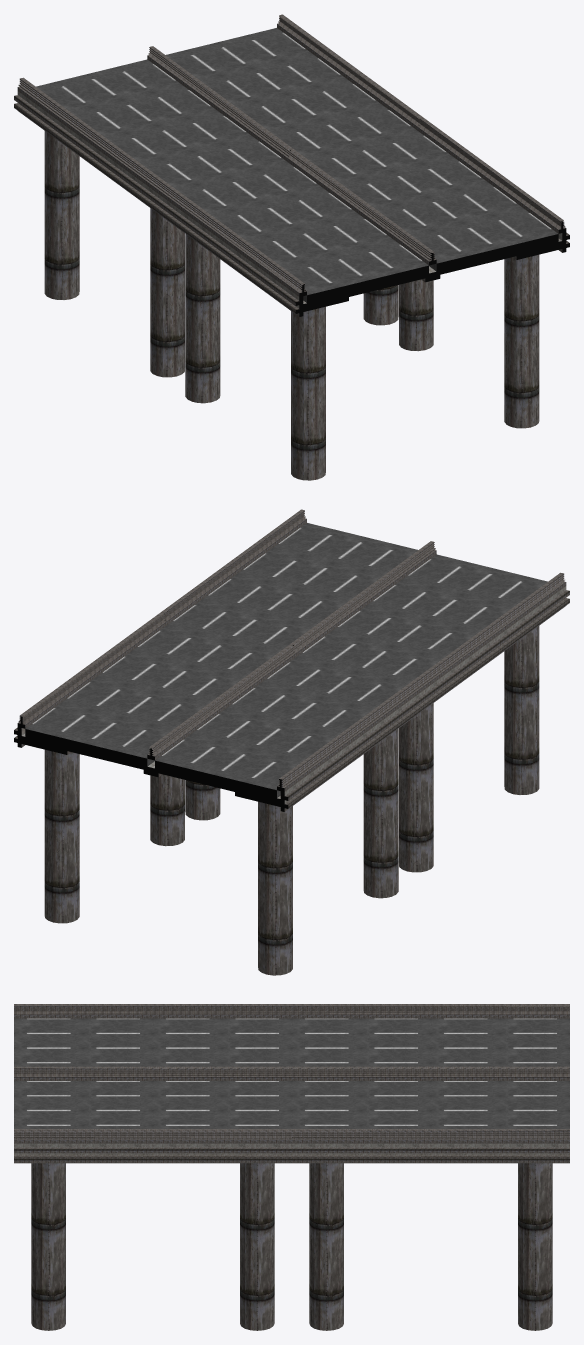
Rendered from HighwayStraight_1.fbx.
The picture shows the model from 3 angles, top to bottom: view 1: azimuth 30°, elevation 25°; view 2: azimuth 150°, elevation 25°; view 3: azimuth 270°, elevation 25°; orthographic projection.
Parts seen in each view (by area): view 1: materialD150, materialA150, materialB150, materialC150; view 2: materialD150, materialA150, materialB150, materialC150; view 3: materialA150, materialD150, materialC150.
Part boxes in pixels (x1,y1,x2,y2): materialD150: (36,28,557,302); materialA150: (14,14,569,480); materialB150: (290,125,569,316); materialC150: (17,91,562,308); materialD150: (26,523,547,797); materialA150: (14,509,569,975); materialB150: (14,620,293,811); materialC150: (21,586,566,803); materialA150: (14,1004,569,1330); materialD150: (14,1018,569,1128); materialC150: (14,1143,569,1155).
Size of the model in its own units: 57.6 by 41.6 by 102.
